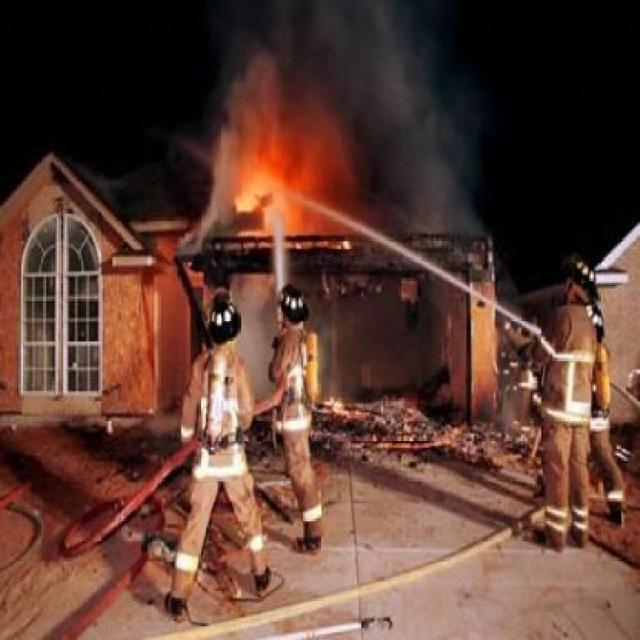Fire: (234, 122, 340, 225)
